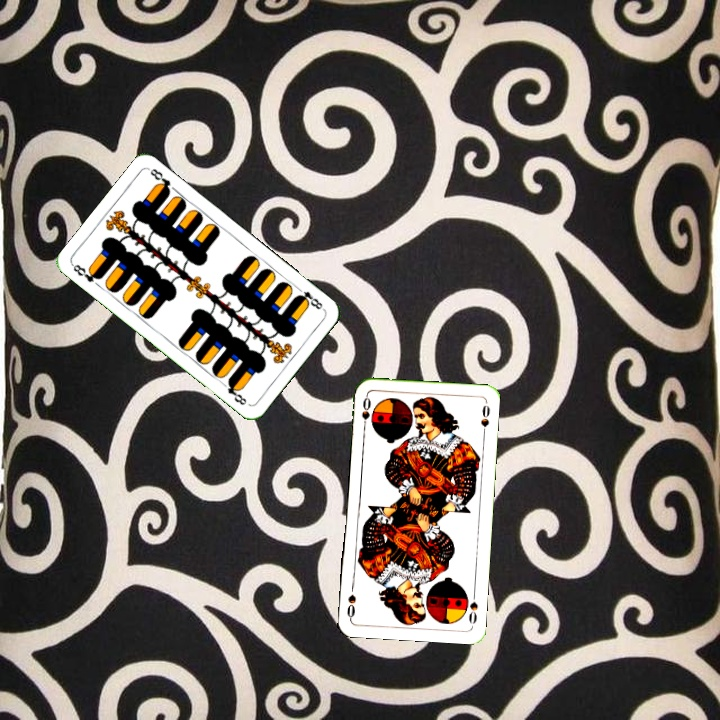E8: (292, 282, 326, 312), (69, 260, 104, 285)
SO: (357, 392, 373, 433), (465, 588, 480, 628)
